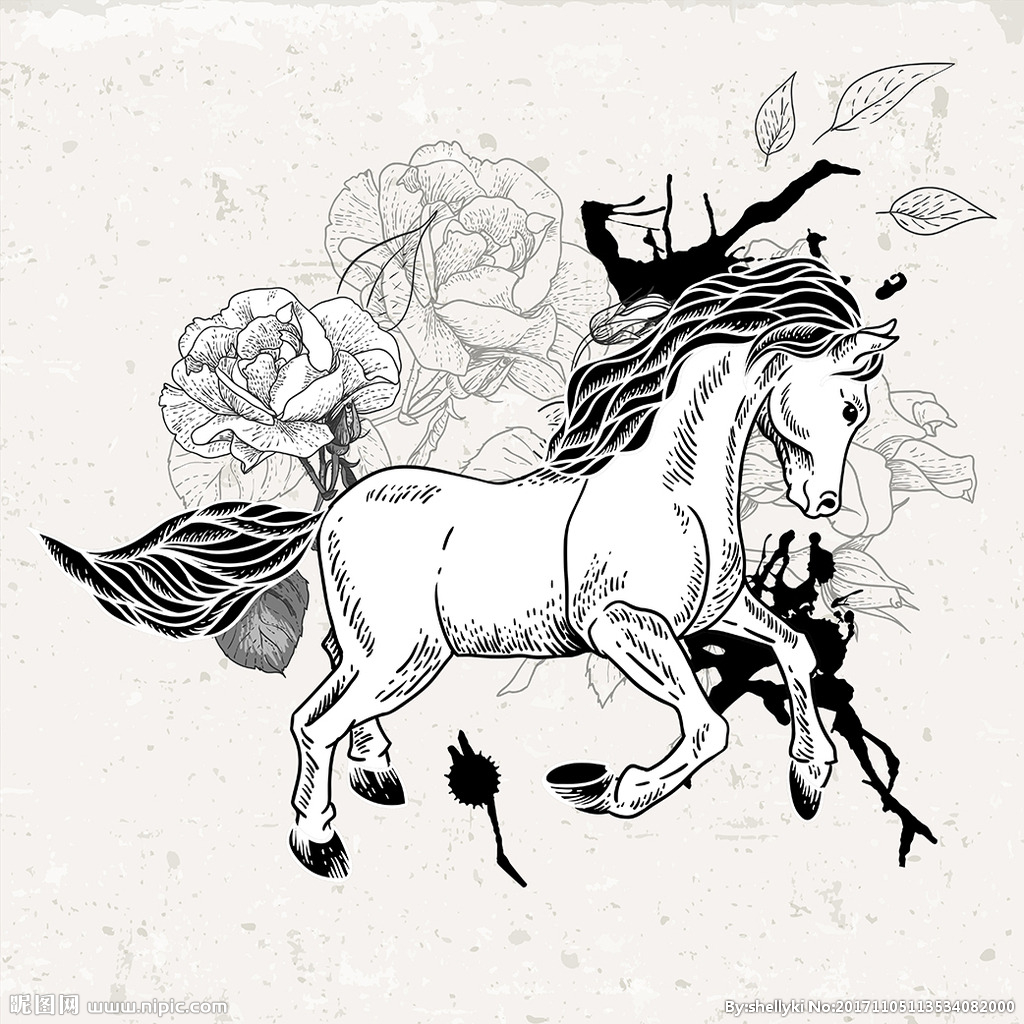background: (236, 254, 906, 868)
